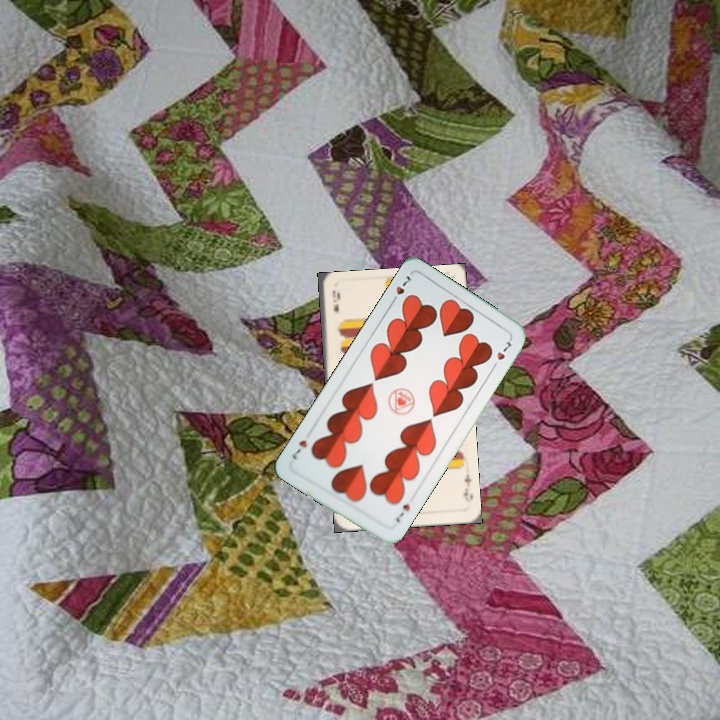E9: (459, 470, 475, 505), (328, 286, 342, 316)
H7: (387, 271, 413, 307), (391, 500, 413, 525)
